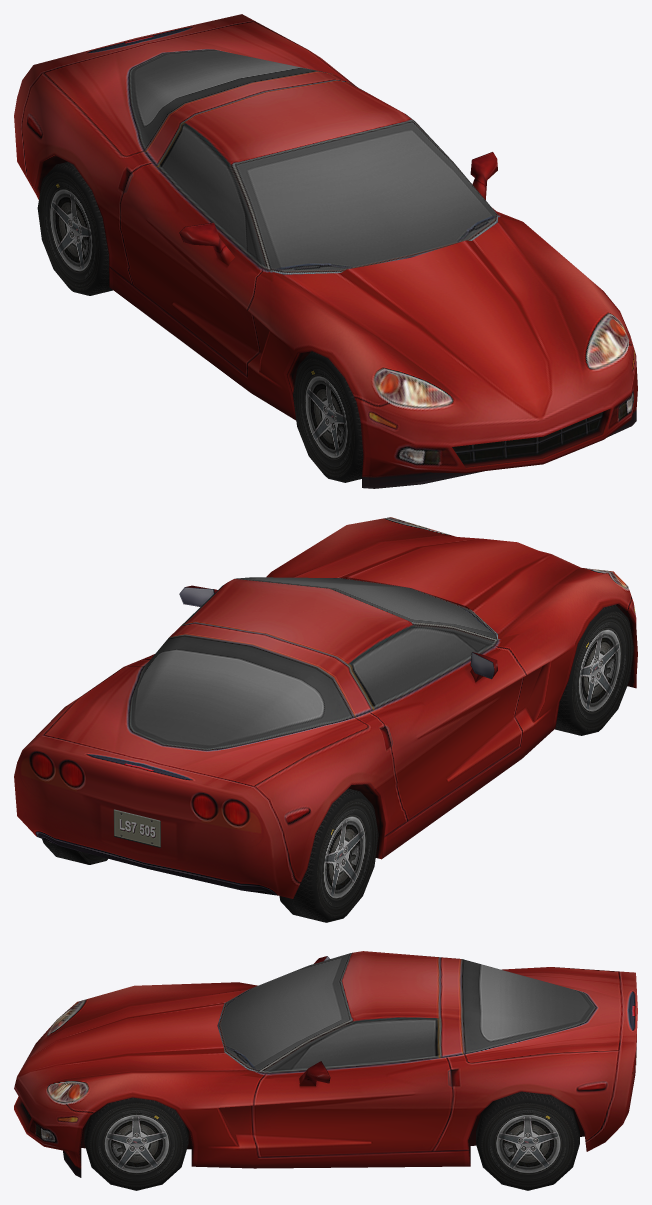
Rendered from Coupe.fbx.
3 views of the same model, one above another, from view 1: azimuth 30°, elevation 25°; view 2: azimuth 150°, elevation 25°; view 3: azimuth 270°, elevation 25° (orthographic). The views are drawn at different scales.
Visible parts, largest first — view 1: Coupe1, Coupe_Wheel_Rear_R, Coupe_Wheel_Front_R; view 2: Coupe1, Coupe_Wheel_Rear_R, Coupe_Wheel_Front_R, Coupe_Wheel_Rear_L; view 3: Coupe1, Coupe_Wheel_Rear_L, Coupe_Wheel_Front_L.
Part boxes in pixels (x1,y1,x2,y2): Coupe1: (14,14,637,488); Coupe_Wheel_Rear_R: (37,162,112,295); Coupe_Wheel_Front_R: (293,351,363,482); Coupe1: (14,517,637,898); Coupe_Wheel_Rear_R: (279,788,378,922); Coupe_Wheel_Front_R: (555,604,633,735); Coupe_Wheel_Rear_L: (42,839,107,864); Coupe1: (14,951,637,1177); Coupe_Wheel_Rear_L: (476,1091,579,1190); Coupe_Wheel_Front_L: (84,1097,188,1190).
Bounding box in the file's own units: 2.77 × 1.78 × 6.18.
